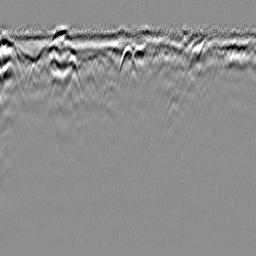cavity: (118, 44, 138, 75)
